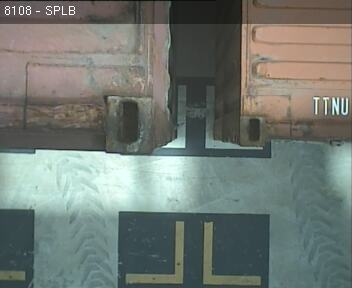groundmarker_1: (125, 221, 260, 285)
